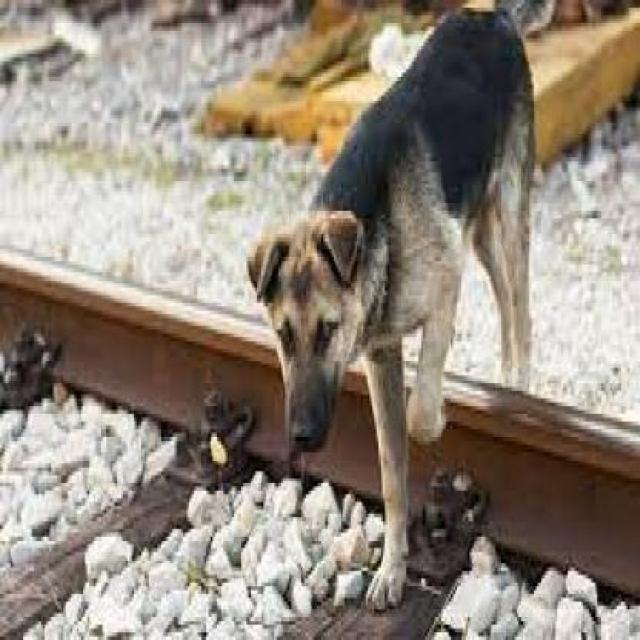danger: (244, 0, 558, 622)
rail: (0, 218, 639, 639)
